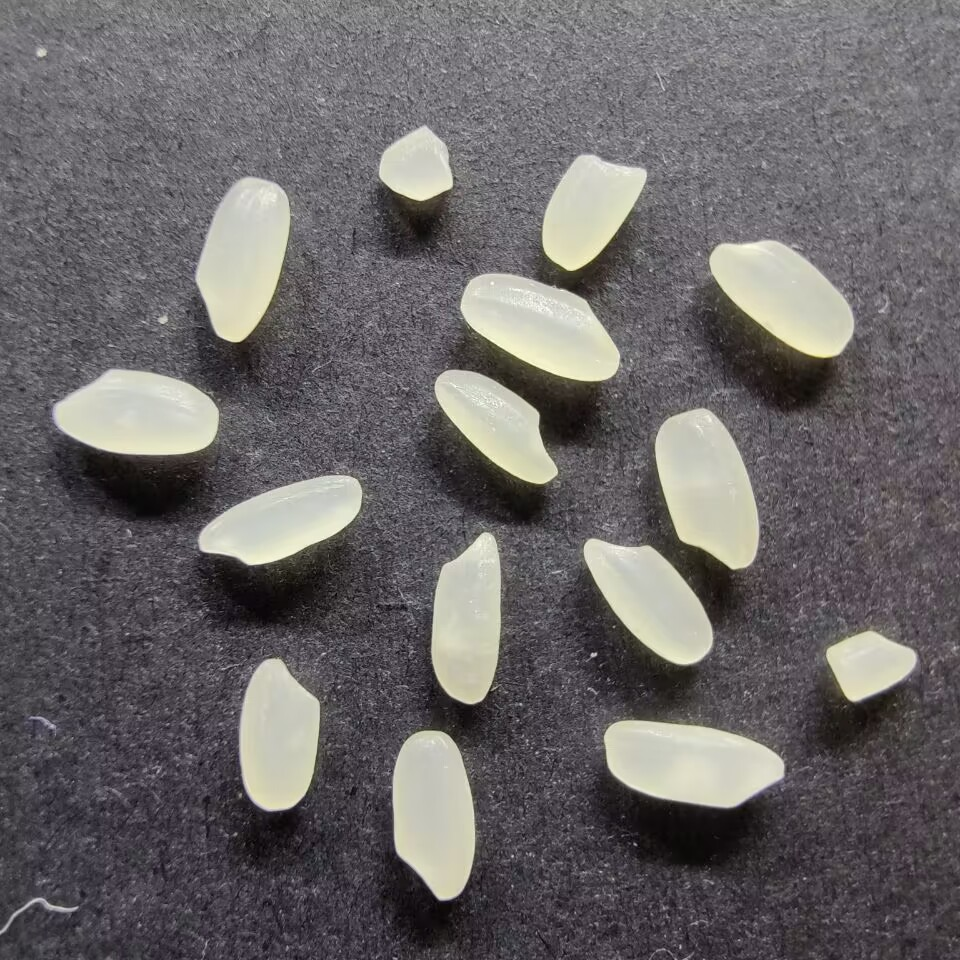broken: (823, 628, 919, 704), (376, 123, 456, 203)
rice: (652, 406, 762, 570), (707, 237, 856, 358), (460, 271, 622, 382), (580, 537, 716, 666), (190, 176, 291, 344), (601, 718, 786, 809), (195, 473, 362, 567), (50, 367, 221, 457), (432, 368, 558, 486), (390, 728, 475, 902), (538, 150, 648, 274), (236, 654, 321, 812), (428, 530, 502, 705)
